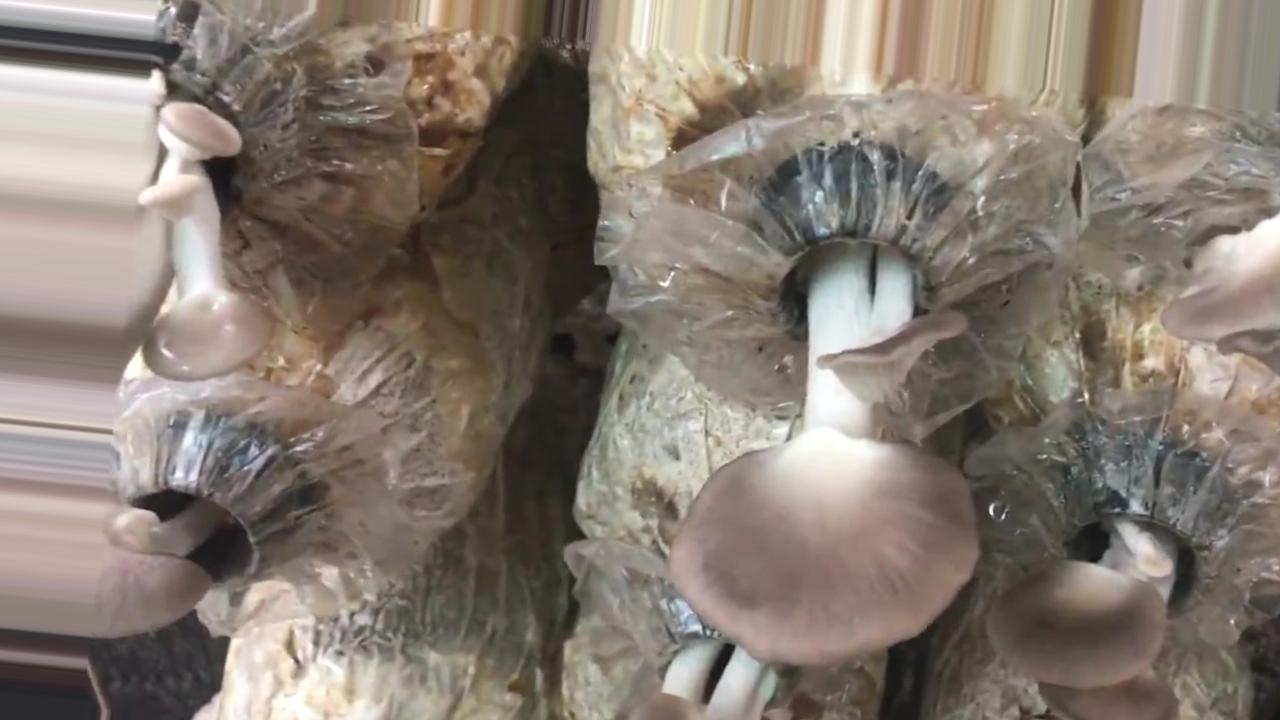nam: (670, 171, 984, 670), (994, 457, 1223, 720), (1, 439, 289, 641), (142, 28, 277, 381), (1161, 214, 1280, 370)
